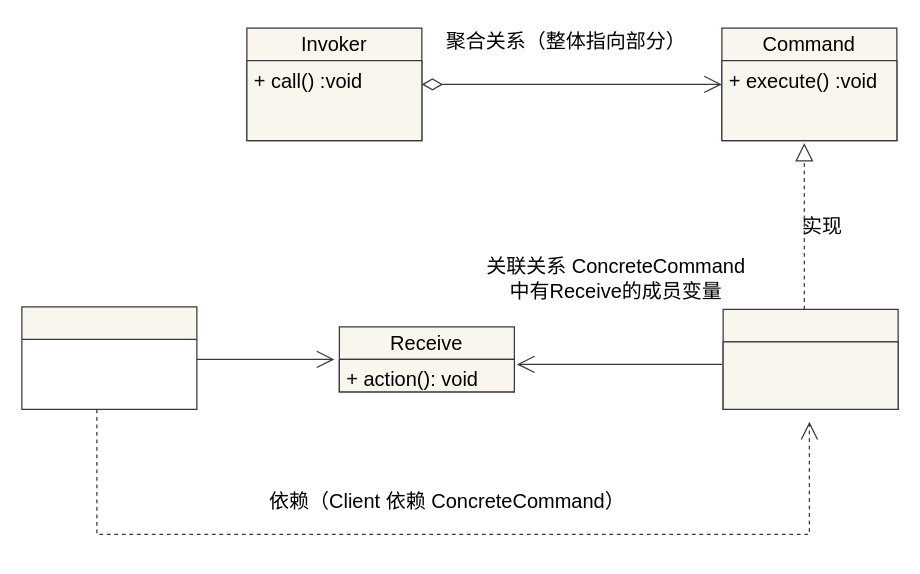
This 920x574 diagram has some shape labels left out. Each missing label, with the box of its shape:
+ execute（）：void: (722, 341, 898, 409)
Client: (21, 306, 197, 409)
ConcreteCommand: (722, 308, 898, 409)
